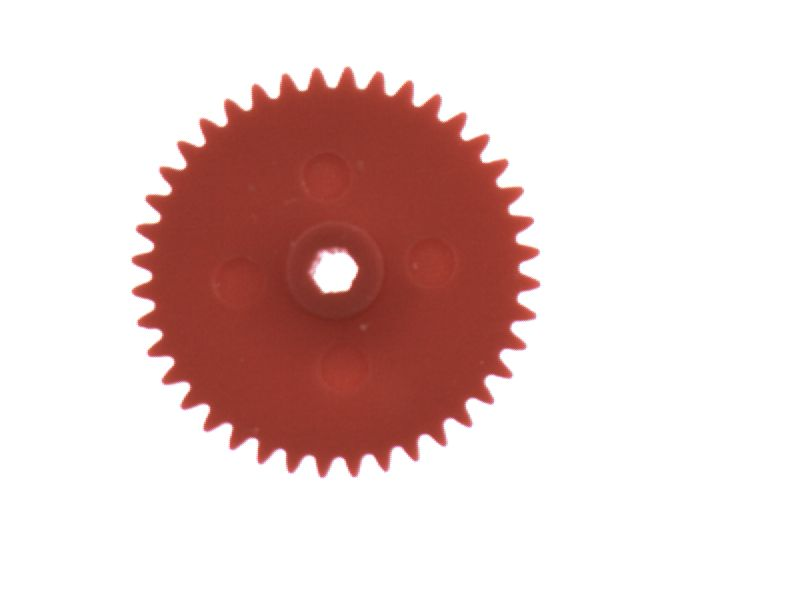good_product: (126, 61, 550, 484)
